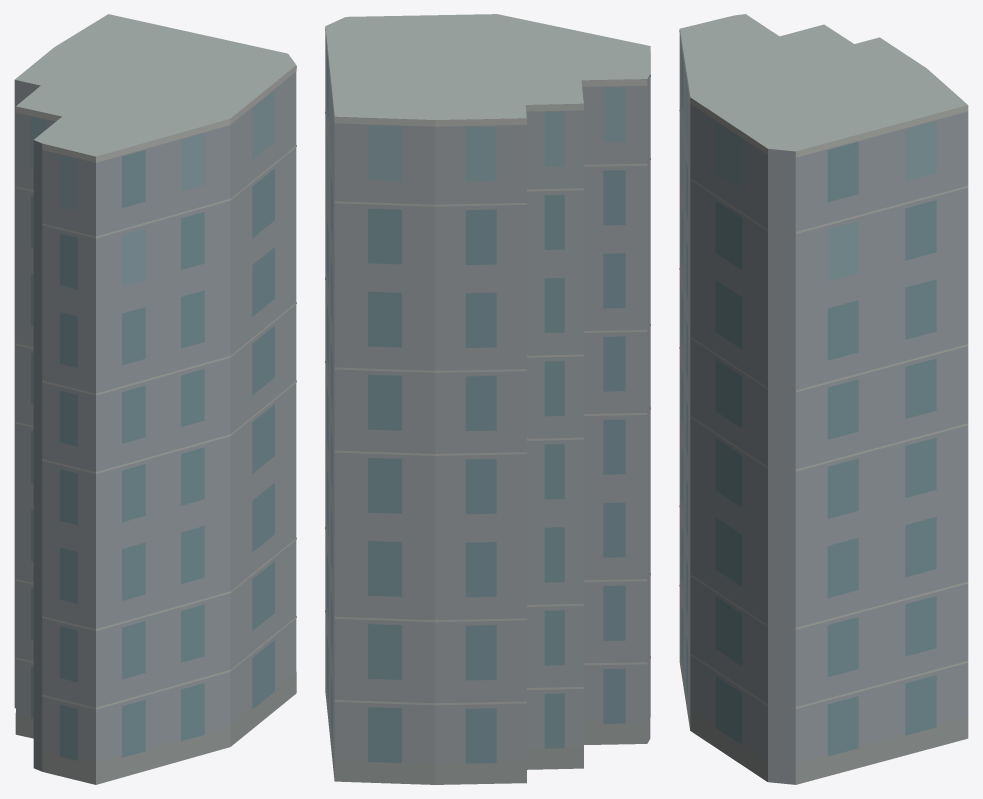
Rendered from survey-upis-33023631.glb.
3 views of the same model, side by side, from view 1: azimuth 30°, elevation 25°; view 2: azimuth 150°, elevation 25°; view 3: azimuth 270°, elevation 25° (orthographic). The views are drawn at different scales.
Visible parts, largest first — view 1: survey-upis-33023631.tmp; view 2: survey-upis-33023631.tmp; view 3: survey-upis-33023631.tmp.
Boxes of the visible parts, x1,y1,x2,y2 form: survey-upis-33023631.tmp: [14, 14, 296, 784]; survey-upis-33023631.tmp: [325, 14, 650, 784]; survey-upis-33023631.tmp: [679, 14, 968, 784].
Size of the model in its own units: 11.42 by 24.5 by 10.14.
